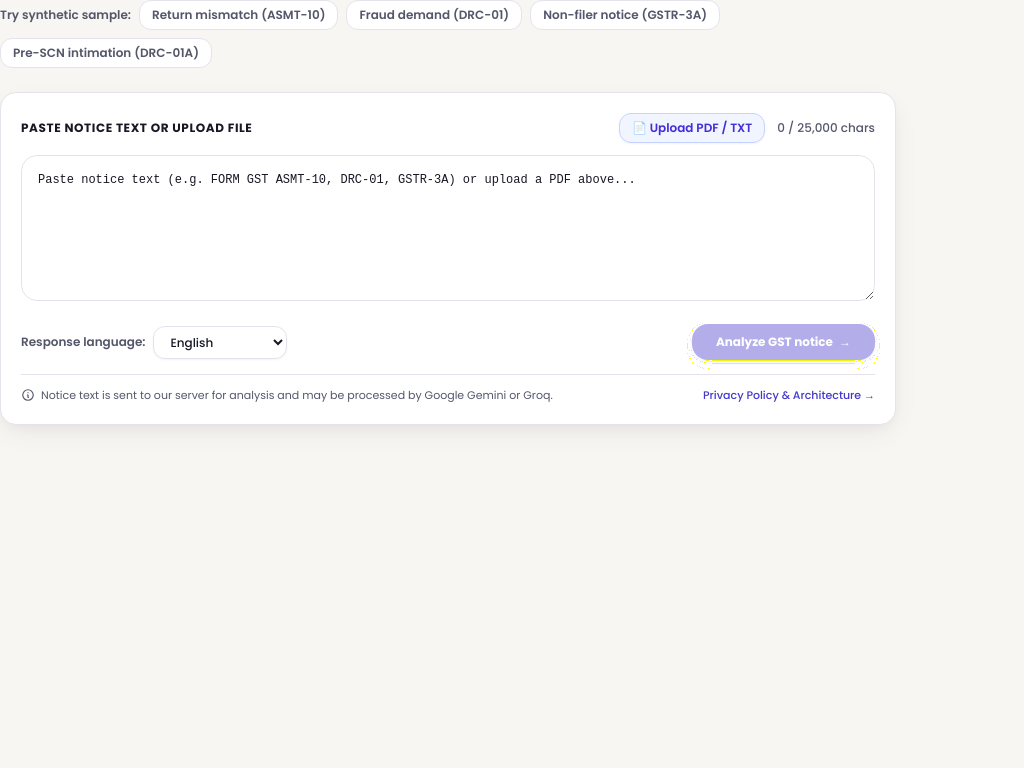
it: NoticeAnalyzer Component › opens reply drafter modal and triggers draft generation
What coordinates should you click on to do the following:
click the button with test id "sample-asmt10-btn"
I would click on:
 (239, 15)
Its box is [139,0,338,30].
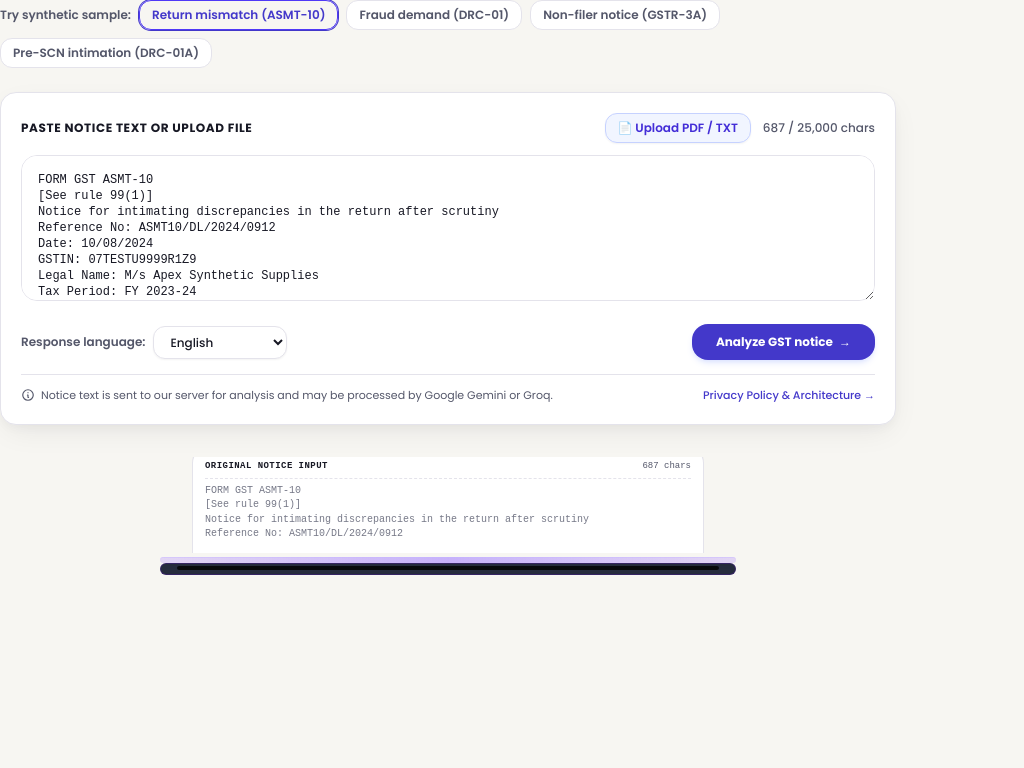
What coordinates should you click on to do the following:
click the button with test id "analyze-notice-btn"
I would click on:
 (783, 342)
Its box is [692,324,875,360].
(page scrolled)
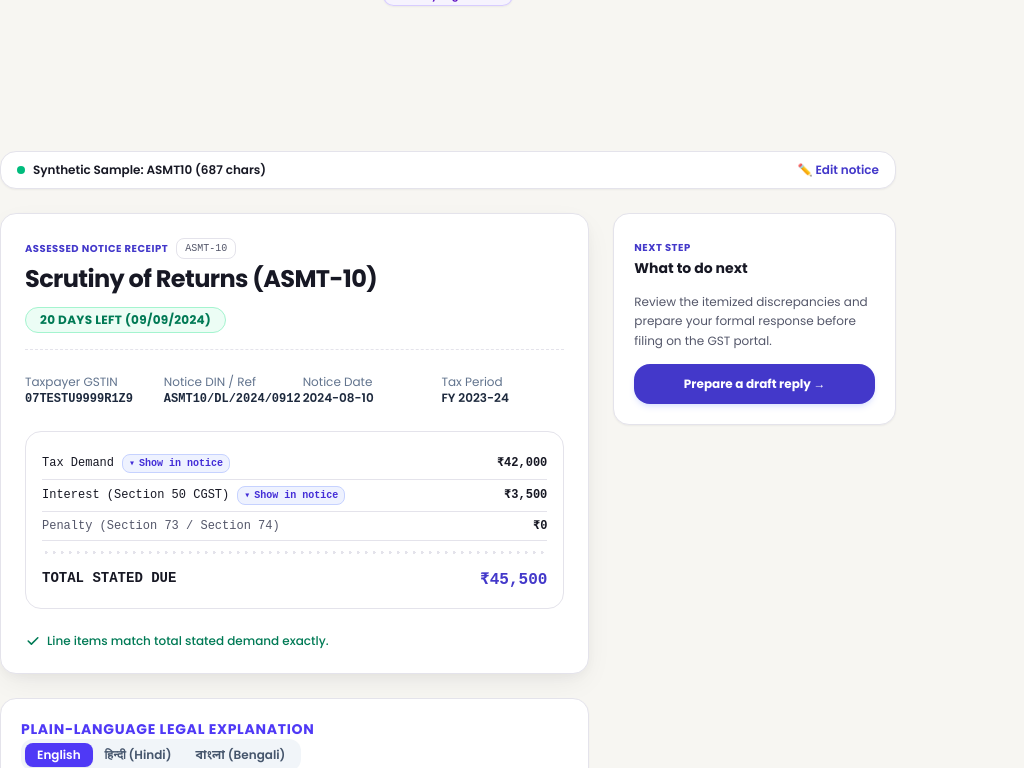
Check: the button with test id "open-draft-modal-btn" is shown
What coordinates should you click on to do the following:
click the button with test id "open-draft-modal-btn"
I would click on:
 (755, 384)
Its box is [634,364,875,404].
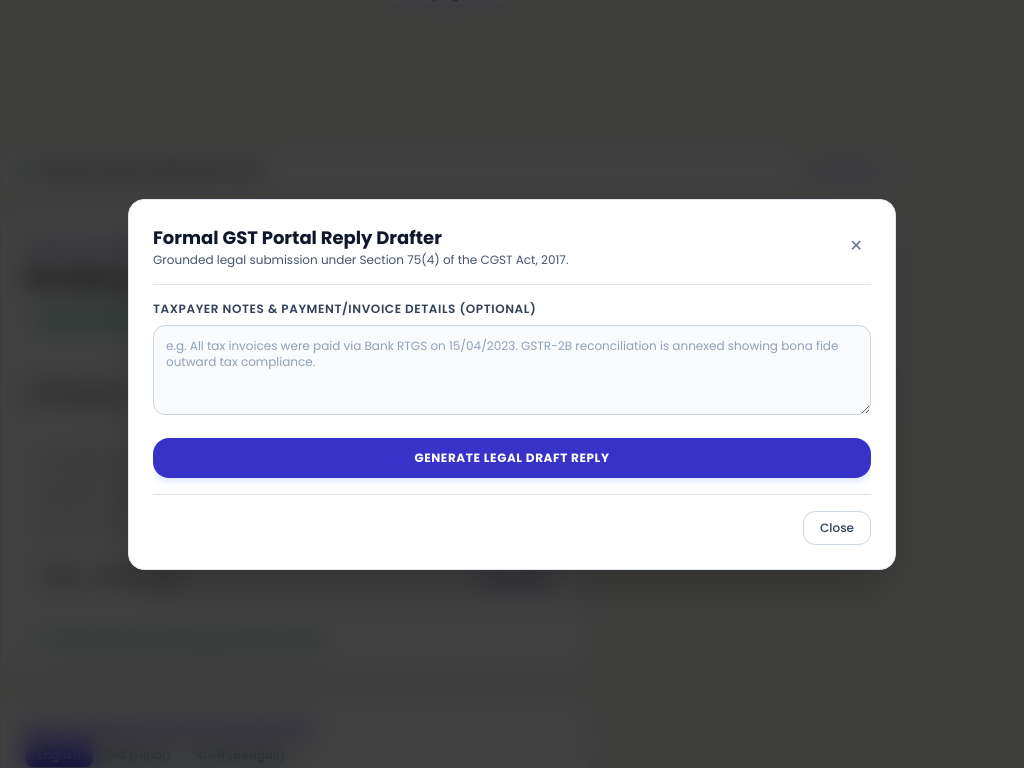
Check: the dialog with test id "draft-reply-modal" is shown
What coordinates should you click on to do the following:
click the button with test id "generate-draft-btn"
I would click on:
 (512, 458)
Its box is [153,438,871,478].
(page scrolled)
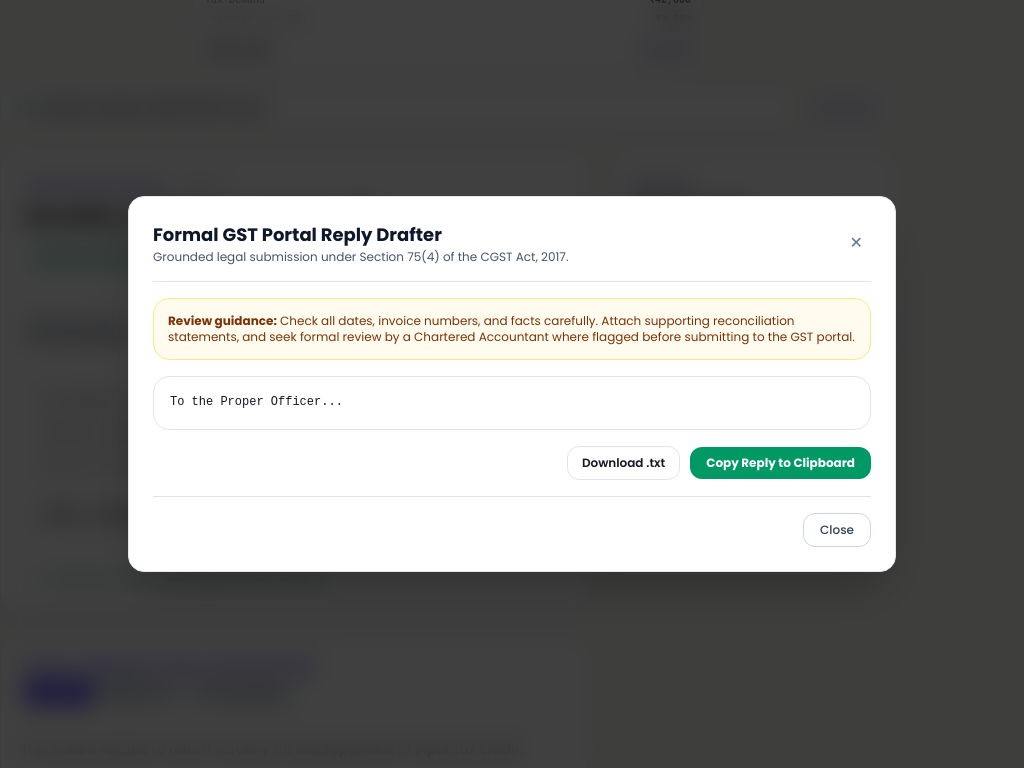
Check: the text "To the Proper Officer..." is shown, box [153,376,871,430]
Check: the text with test id "draft-reply-text" shows "To the Proper Officer", box [170,395,343,409]
